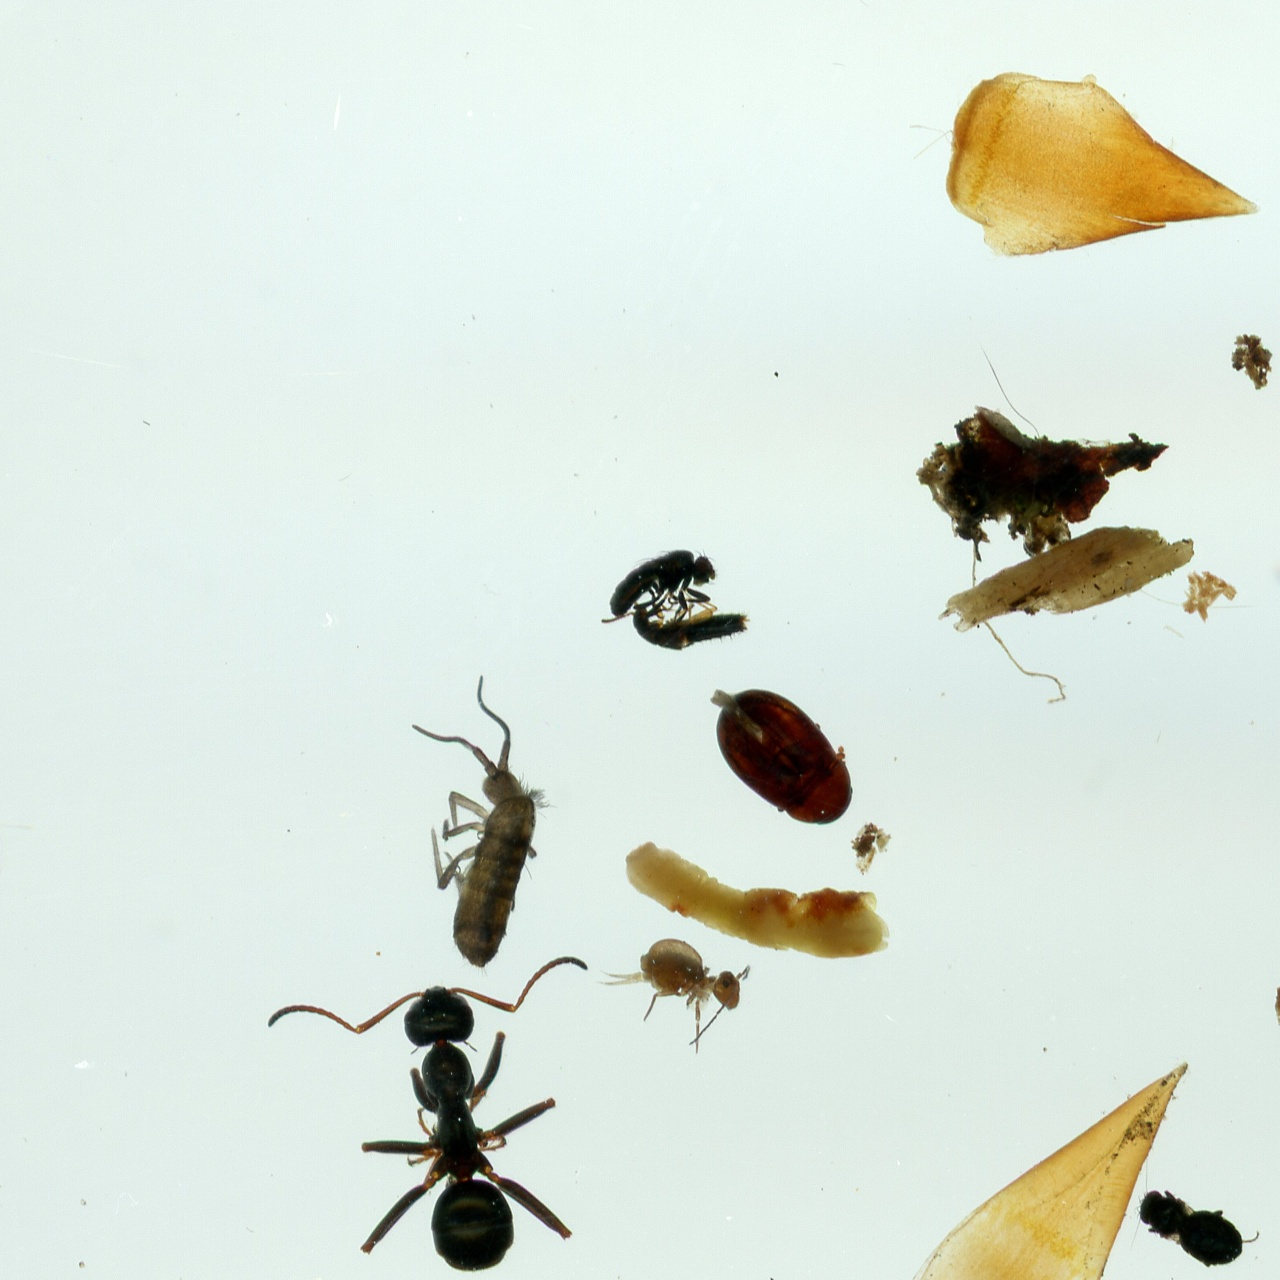arthropod: (267, 956, 591, 1273), (410, 674, 552, 965), (705, 684, 857, 829), (598, 935, 752, 1050), (1137, 1177, 1262, 1268), (602, 550, 719, 625), (627, 603, 752, 648)
